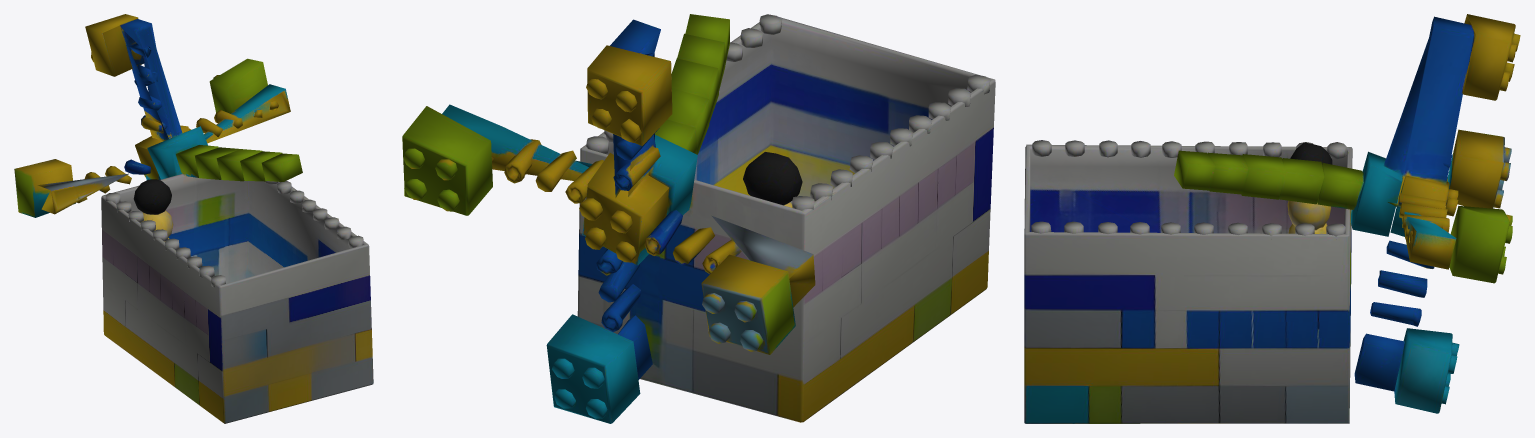
Rendered from object_16_asset_6ecc1690.glb.
The picture shows the model from 3 angles, left to right: view 1: azimuth 30°, elevation 25°; view 2: azimuth 150°, elevation 25°; view 3: azimuth 270°, elevation 25°; orthographic projection. The views are drawn at different scales.
Visible parts, largest first — view 1: tripo_node_8f06c7a8-ac19-44d5-adcf-02a5280a537f; view 2: tripo_node_8f06c7a8-ac19-44d5-adcf-02a5280a537f; view 3: tripo_node_8f06c7a8-ac19-44d5-adcf-02a5280a537f.
Boxes of the visible parts, x1,y1,x2,y2 form: tripo_node_8f06c7a8-ac19-44d5-adcf-02a5280a537f: (14,14,373,423); tripo_node_8f06c7a8-ac19-44d5-adcf-02a5280a537f: (402,14,995,423); tripo_node_8f06c7a8-ac19-44d5-adcf-02a5280a537f: (1024,14,1520,423).
Size of the model in its own units: 0.748 by 0.7988 by 0.998.
Materials: 1 (1 with a texture image).
